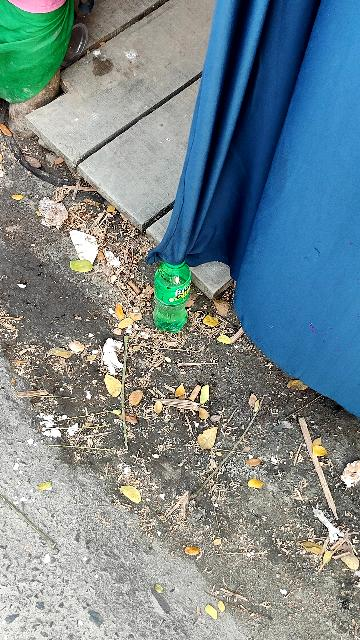bottle: (137, 255, 202, 343)
